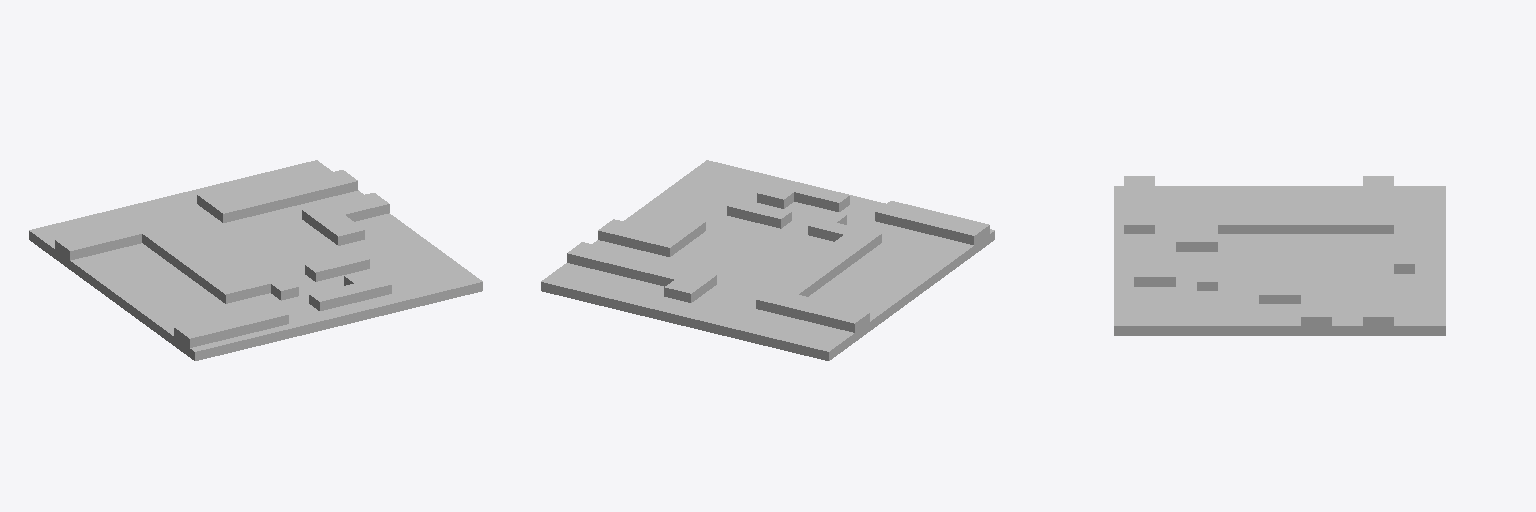
Rendered from niveau 6.obj.
3 views of the same model, side by side, from view 1: azimuth 30°, elevation 25°; view 2: azimuth 150°, elevation 25°; view 3: azimuth 270°, elevation 25° (orthographic).
Visible parts, largest first — view 1: Niveau 6; view 2: Niveau 6; view 3: Niveau 6.
Boxes of the visible parts, box(x1,y1,x2,y2) form: Niveau 6: box(29, 160, 482, 360); Niveau 6: box(541, 160, 994, 360); Niveau 6: box(1114, 176, 1445, 335).
Bounding box in the file's own units: 3.2 × 0.2 × 3.2.